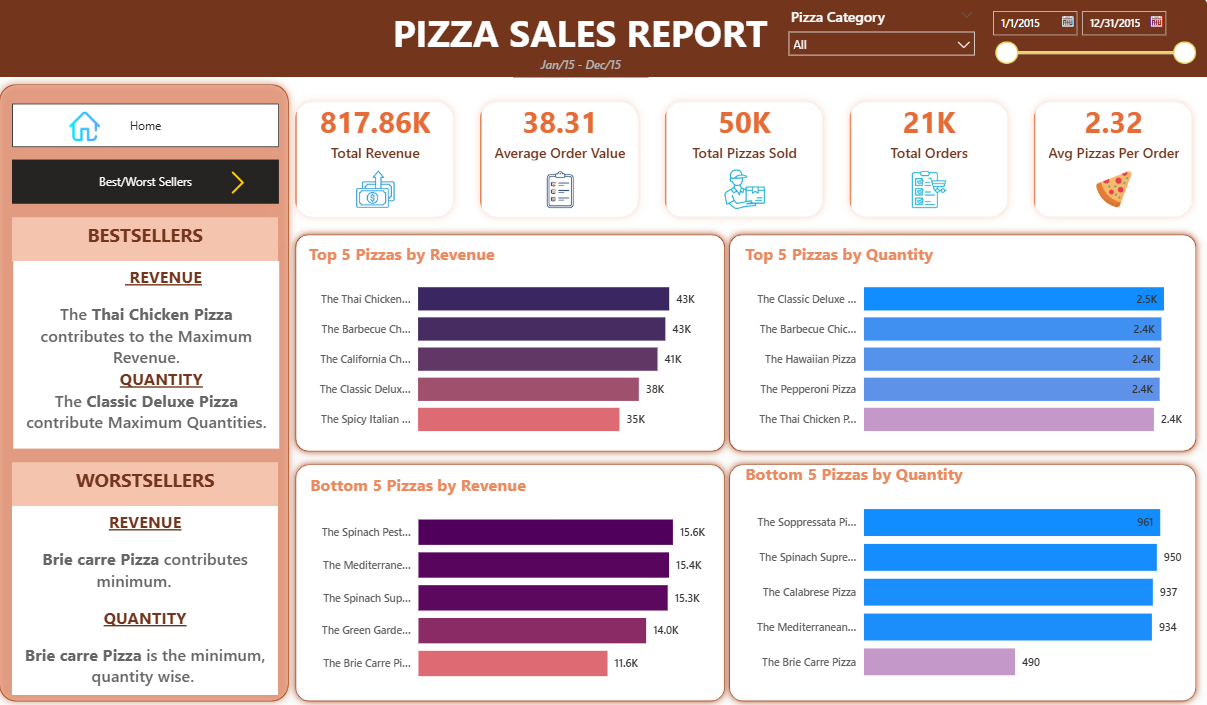

What the dashboard file says about the page in this screenshot:
{"tool":"powerbi","page":{"name":"Best/Worst Sellers","canvas":[1400,820],"ordinal":1},"visuals":[{"type":"cardVisual","fields":{"Data":["pizzahut order_details.Total Revenue","pizzahut order_details.Average Order Value","pizzahut order_details.Total Pizzas Sold","pizzahut order_details.Total Orders","pizzahut order_details.Avg Pizzas Per Order"]},"box":[318.6,98.6,1081.4,188.6],"z":0},{"type":"shape","box":[0,0,1391.4,98.6],"z":1000},{"type":"textbox","box":[444.3,12.9,455.7,72.9],"z":2000},{"type":"textbox","box":[595.7,70,154.3,28.6],"z":3000},{"type":"shape","box":[338.6,270,507.1,264.3],"z":4000},{"type":"shape","box":[338.6,532.9,507.1,287.1],"z":5000},{"type":"shape","box":[834.3,532.9,550,287.1],"z":6000},{"type":"shape","box":[0,98.6,347.1,721.4],"z":7000},{"type":"textbox","box":[22.9,258.6,304.3,50],"z":8000},{"type":"textbox","box":[24.3,308.6,304.3,214.3],"z":9000},{"type":"textbox","box":[22.9,538.6,304.3,50],"z":10000},{"type":"textbox","box":[22.9,588.6,304.3,215.7],"z":11000},{"type":"slicer","fields":{"Values":["pizzahut pizza_types.category"]},"box":[900,12.9,232.9,64.3],"z":12000},{"type":"slicer","fields":{"Values":["pizzahut orders.date"]},"box":[1131.4,12.9,252.9,72.9],"z":13000},{"type":"shape","box":[834.3,270,550,264.3],"z":14000},{"type":"barChart","title":"Top 5 Pizzas by Revenue","fields":{"Category":["pizzahut pizza_types.name"],"Y":["pizzahut order_details.Total Revenue"]},"box":[357.1,287.1,467.1,235.7],"z":15000},{"type":"barChart","title":"Bottom 5 Pizzas by Revenue","fields":{"Category":["pizzahut pizza_types.name"],"Y":["pizzahut order_details.Total Revenue"]},"box":[358.6,551.4,465.7,252.9],"z":16000},{"type":"barChart","title":"Top 5 Pizzas by Quantity","fields":{"Category":["pizzahut pizza_types.name"],"Y":["pizzahut order_details.Total Pizzas Sold"]},"box":[855.7,287.1,510,235.7],"z":17000},{"type":"barChart","title":"Bottom 5 Pizzas by Quantity","fields":{"Category":["pizzahut pizza_types.name"],"Y":["pizzahut order_details.Total Pizzas Sold"]},"box":[855.7,538.6,510,265.7],"z":18000},{"type":"pageNavigator","box":[23,129,305,50],"z":19000},{"type":"pageNavigator","box":[23,193,305,50],"z":20000},{"type":"image","box":[243,206,76,26],"z":21000},{"type":"image","box":[77,137,57,35],"z":22000}]}

Visuals, with their boxes in screenshot pixels (x1, y1, x2, y2), scaled from the page's 1400x820 canvas onto the 1207x705 screenshot:
cardVisual - pizzahut order_details.Total Revenue x pizzahut order_details.Average Order Value: Rect(275, 85, 1206, 247)
shape: Rect(0, 0, 1200, 85)
textbox: Rect(383, 11, 776, 74)
textbox: Rect(514, 60, 647, 85)
shape: Rect(292, 232, 729, 459)
shape: Rect(292, 458, 729, 704)
shape: Rect(719, 458, 1193, 704)
shape: Rect(0, 85, 299, 704)
textbox: Rect(20, 222, 282, 265)
textbox: Rect(21, 265, 283, 450)
textbox: Rect(20, 463, 282, 506)
textbox: Rect(20, 506, 282, 692)
slicer - pizzahut pizza_types.category: Rect(776, 11, 977, 66)
slicer - pizzahut orders.date: Rect(975, 11, 1193, 74)
shape: Rect(719, 232, 1193, 459)
"Top 5 Pizzas by Revenue" barChart: Rect(308, 247, 711, 449)
"Bottom 5 Pizzas by Revenue" barChart: Rect(309, 474, 711, 692)
"Top 5 Pizzas by Quantity" barChart: Rect(738, 247, 1177, 449)
"Bottom 5 Pizzas by Quantity" barChart: Rect(738, 463, 1177, 692)
pageNavigator: Rect(20, 111, 283, 154)
pageNavigator: Rect(20, 166, 283, 209)
image: Rect(210, 177, 275, 199)
image: Rect(66, 118, 116, 148)
